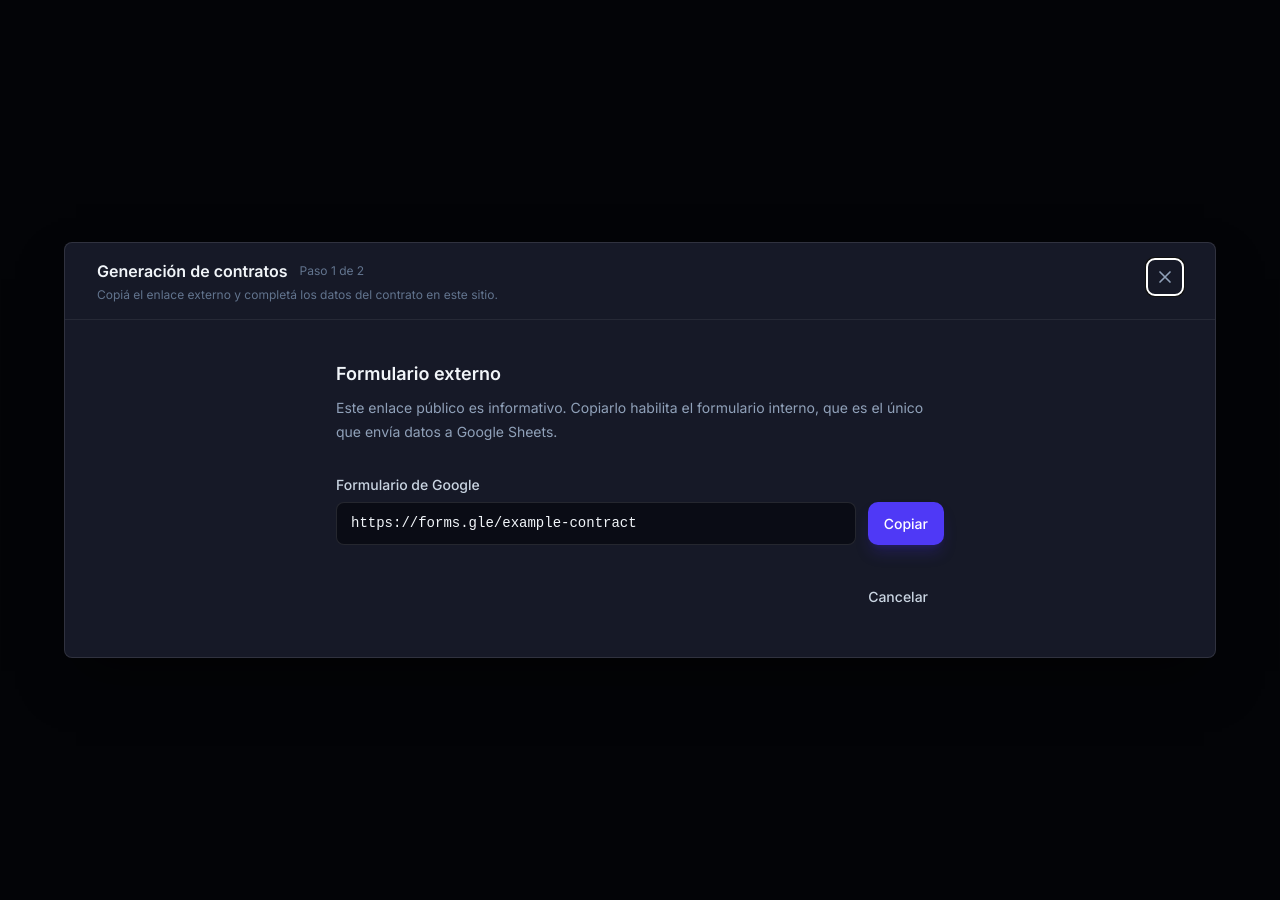
Scenario: ContractGenerationModal submission › preserves entered data, exposes retry guidance, and focuses a server-invalid field
Click the button "Copiar": click(906, 524) [868,502,944,545]
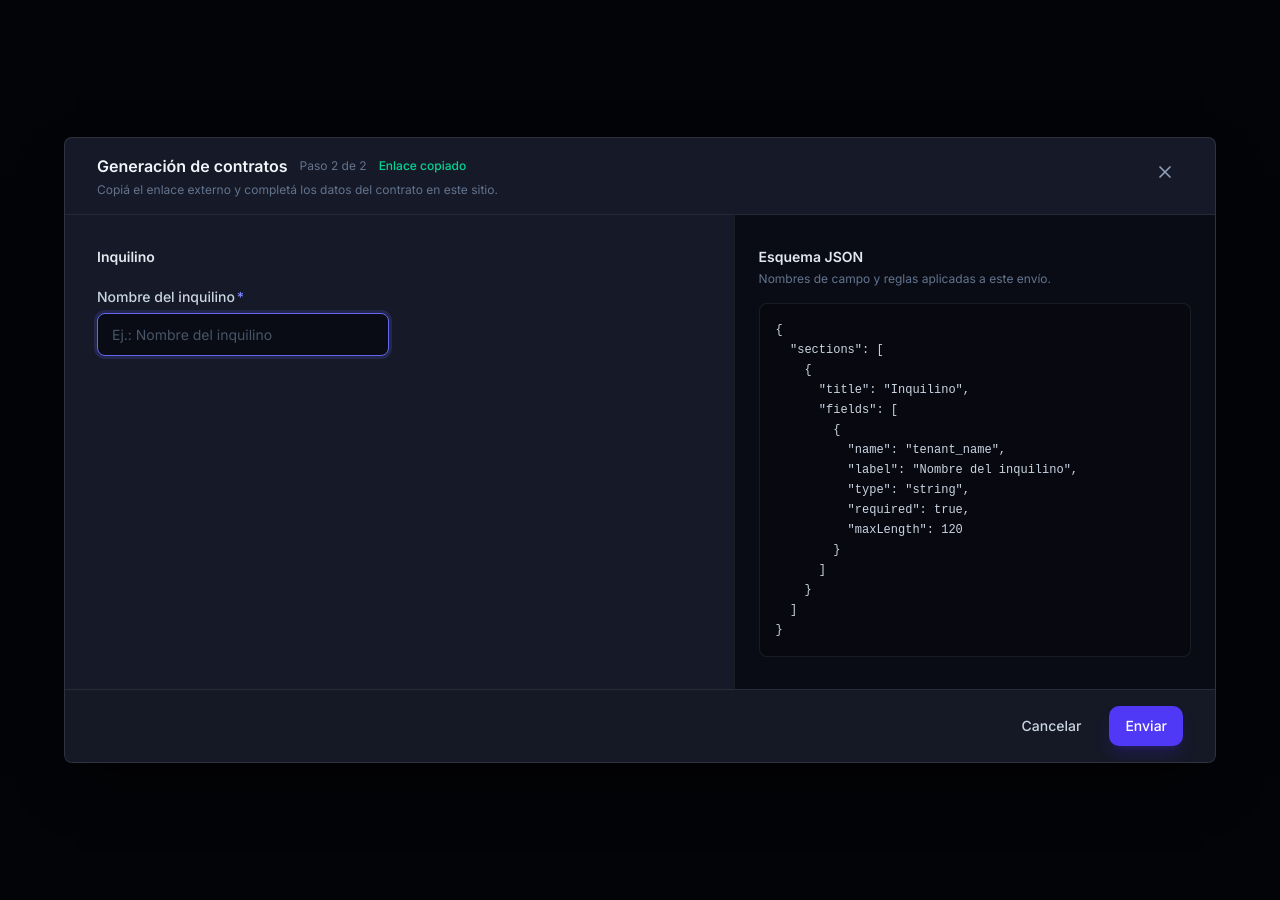
In the field labelled "Nombre del inquilino*": (243, 334) [97,313,389,356], type "Ada Lovelace"
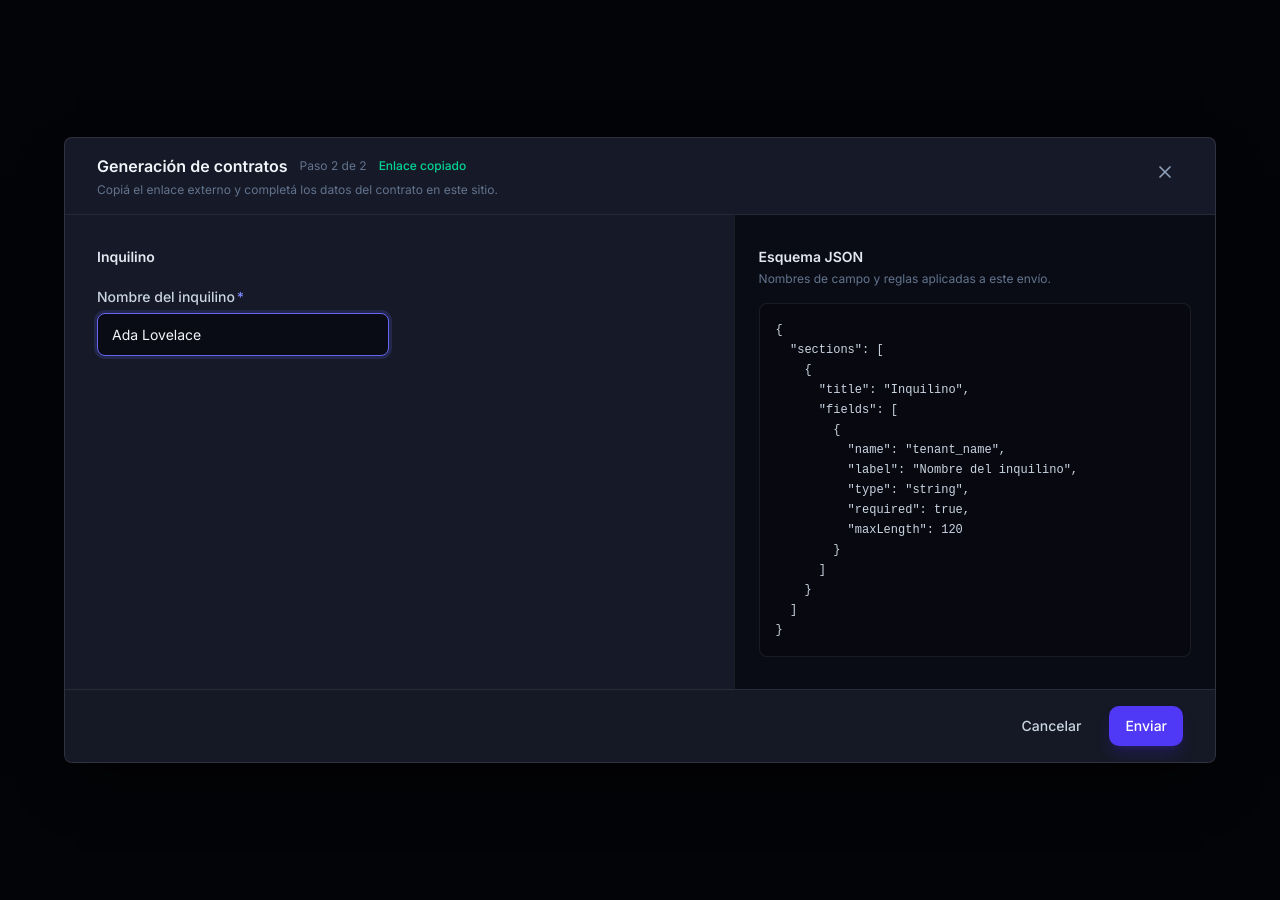
Click the button "Enviar": click(1146, 726) [1109,706,1183,746]
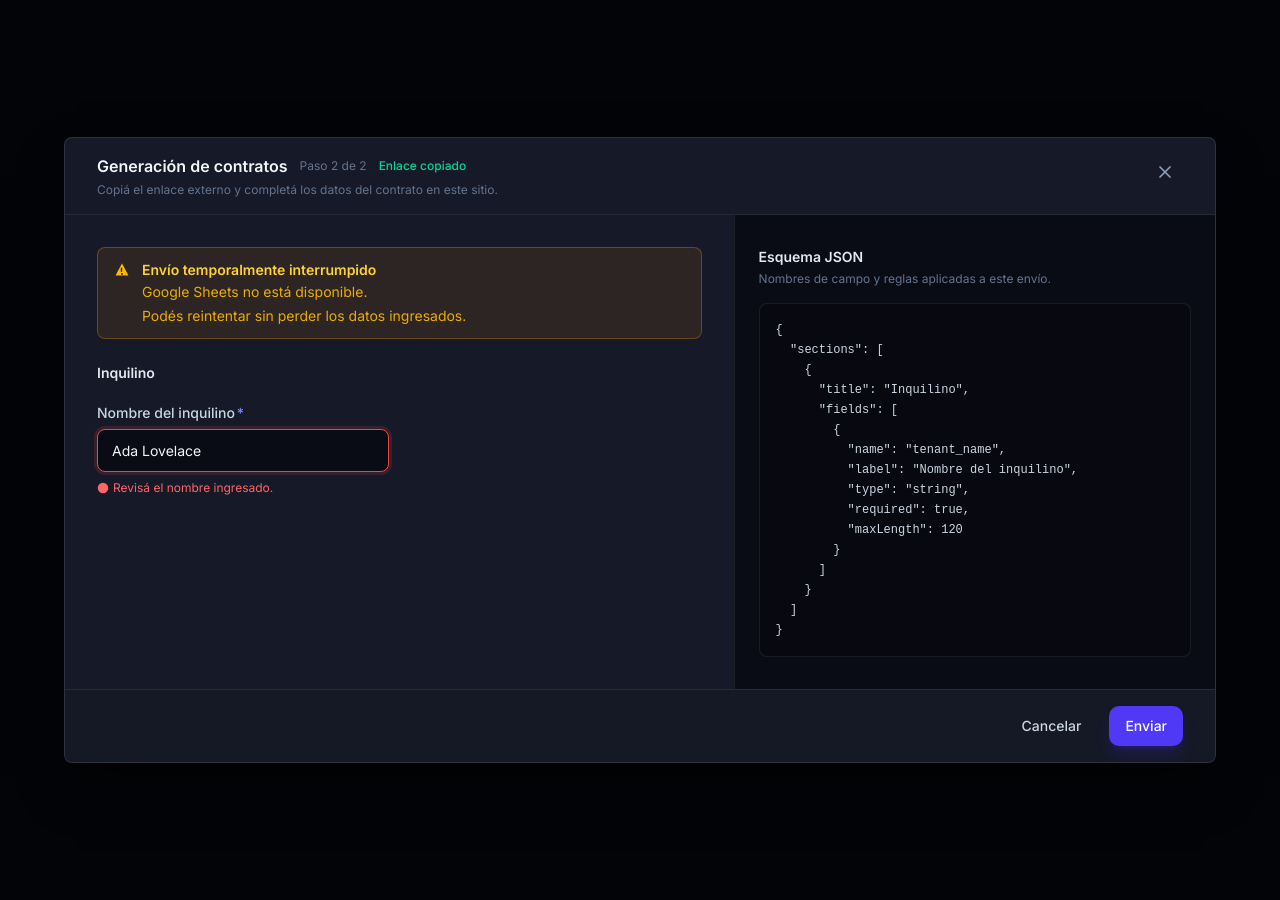
Expected: the text "Revisá el nombre ingresado." is shown, [97,480,273,495]
Expected: the text "Google Sheets no está disponible." is shown, [142,283,367,300]
Expected: the text "Podés reintentar sin perder los datos ingresados." is shown, [142,306,466,326]
